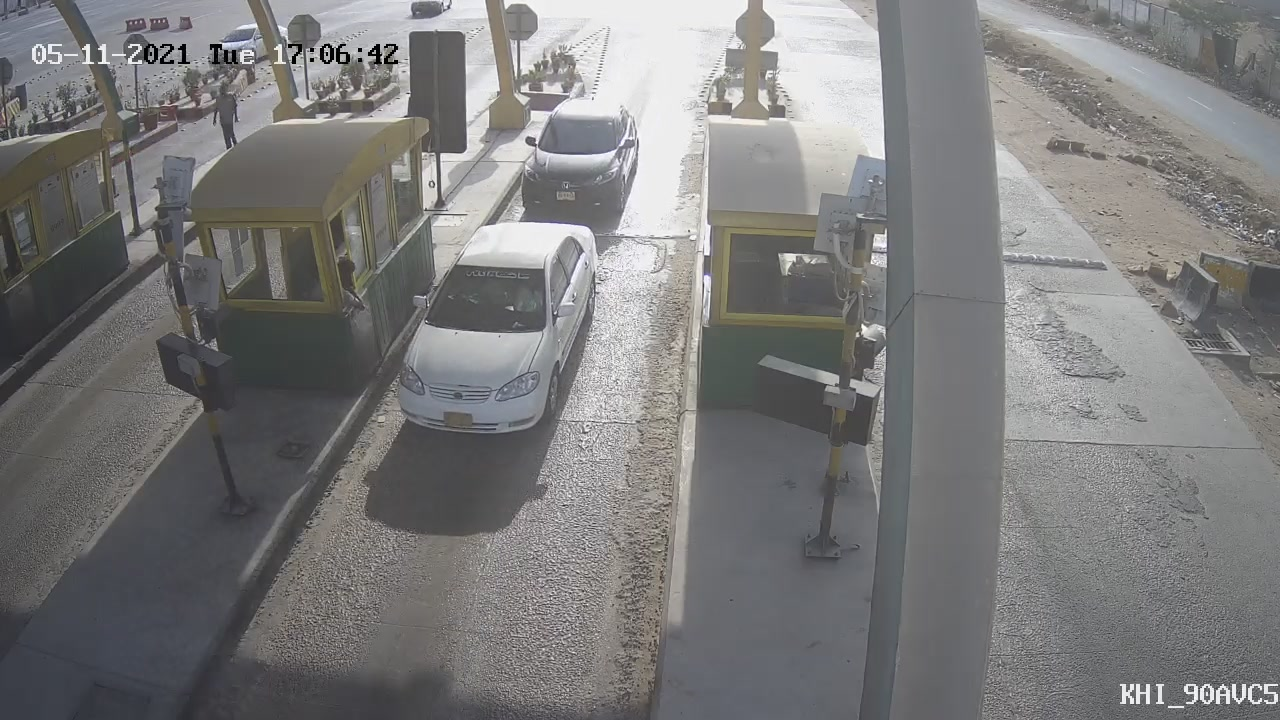F1: (369, 207, 621, 456), (503, 77, 661, 233)
